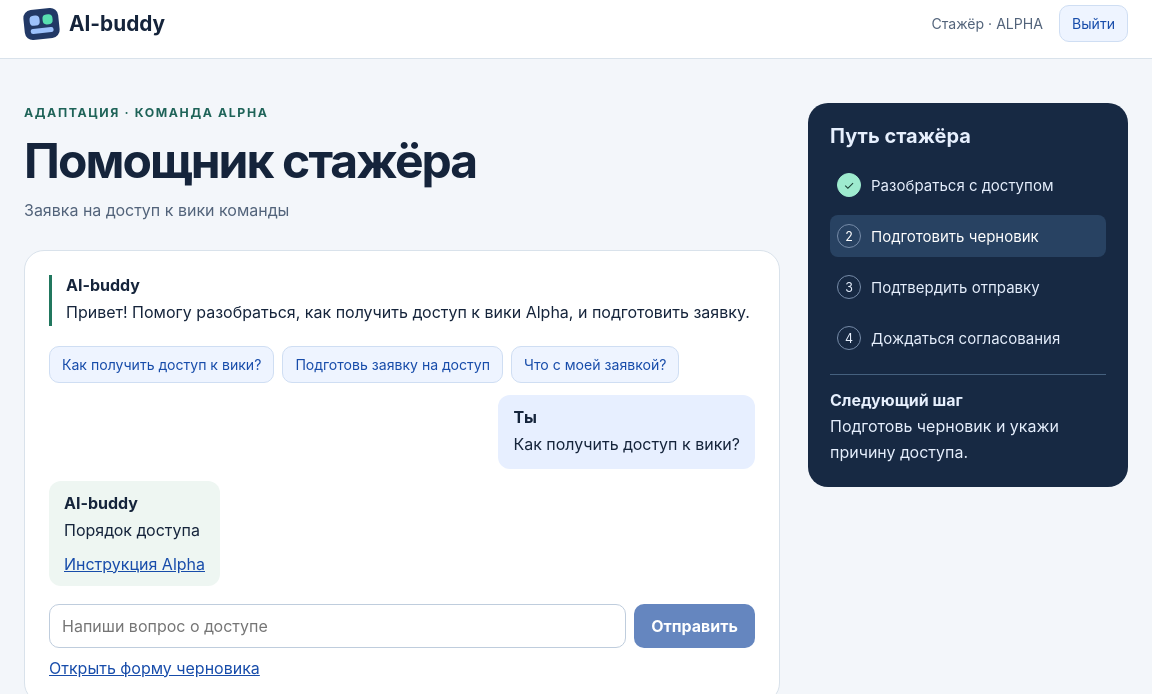
AI-buddy › signs in, reads an instruction and creates a draft
Earlier steps of the test are not shown.
Check: the text "Порядок доступа" is shown, box [64,518,205,544]
Click the button "Инструкция Alpha" at (134, 564), box [64,554,205,574]
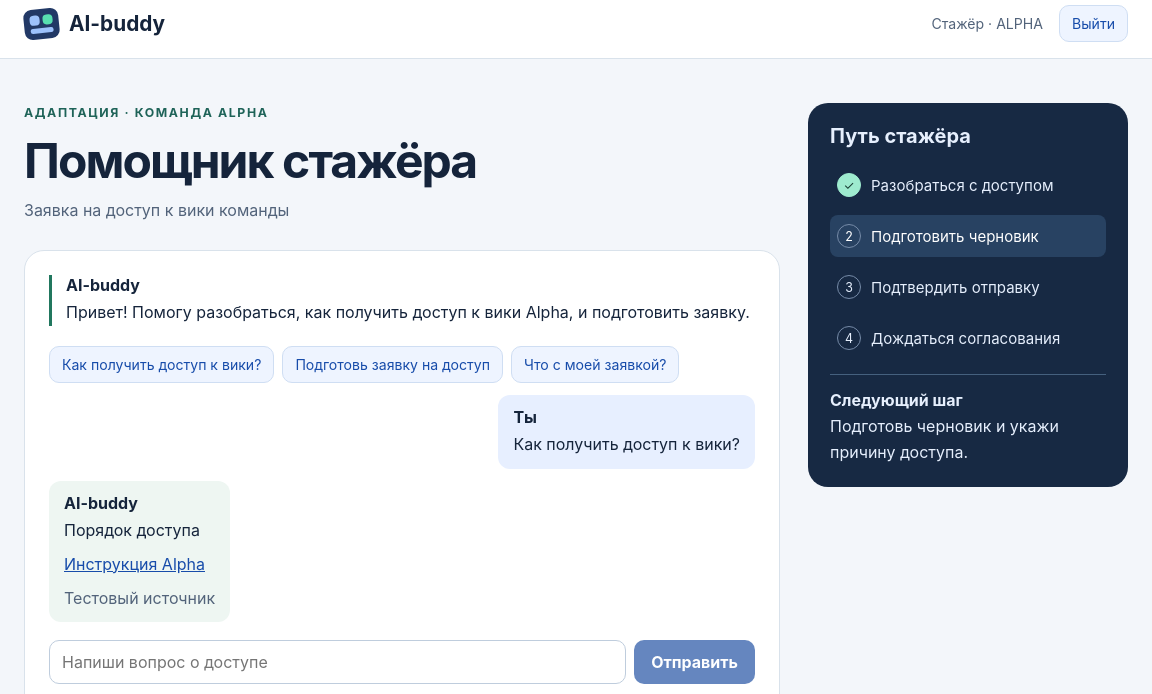
Check: the text "Тестовый источник" is shown, box [64,588,215,608]
Click the button "Инструкция Alpha" at (134, 564), box [64,554,205,574]
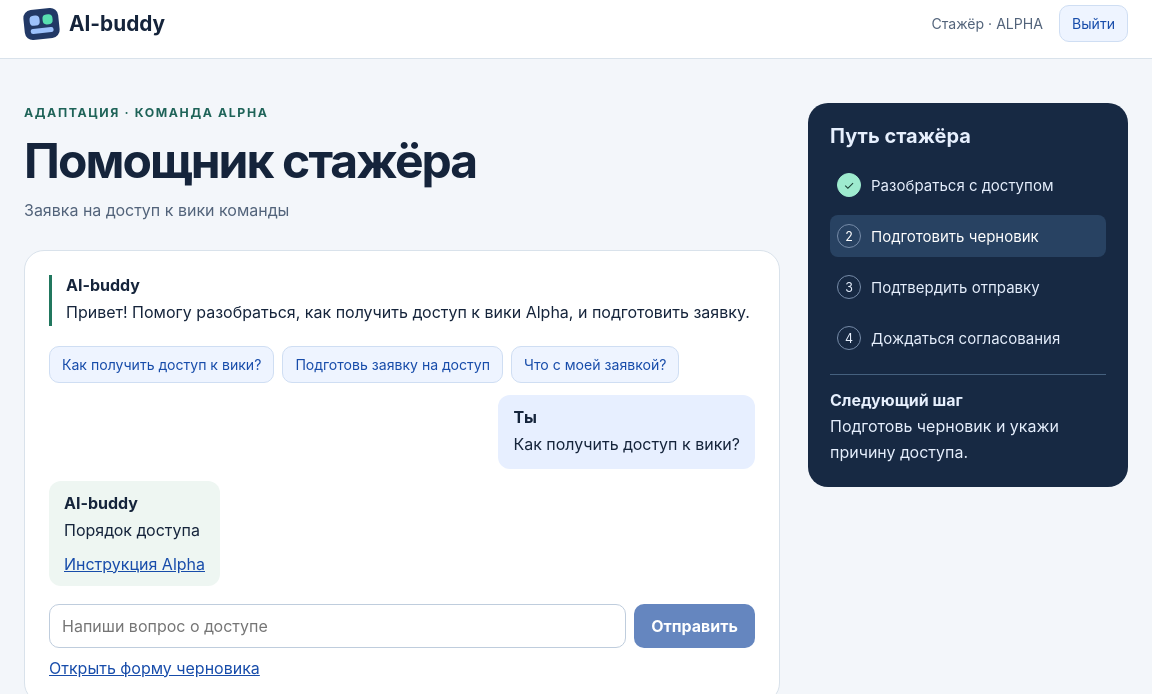
Check: the text "Тестовый источник" is gone
Type "Подготовь заявку" into the field named "Сообщение" at (338, 626), box [49,604,626,648]
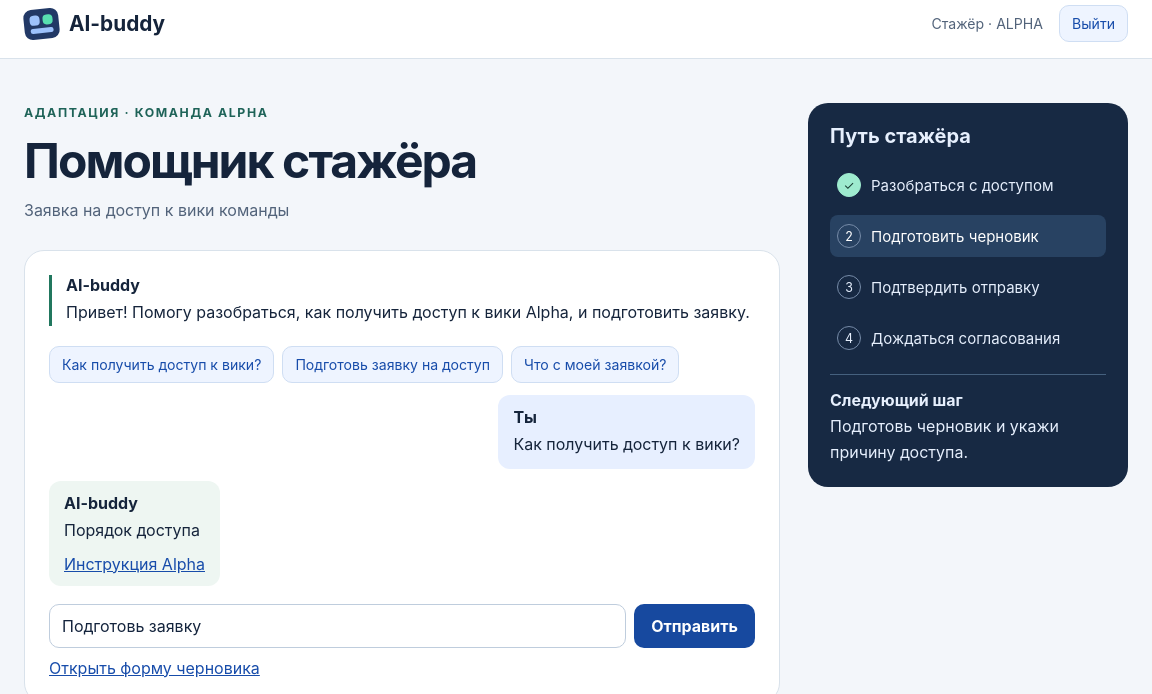
Click the button "Отправить" at (695, 626), box [634,604,755,648]
(page scrolled)
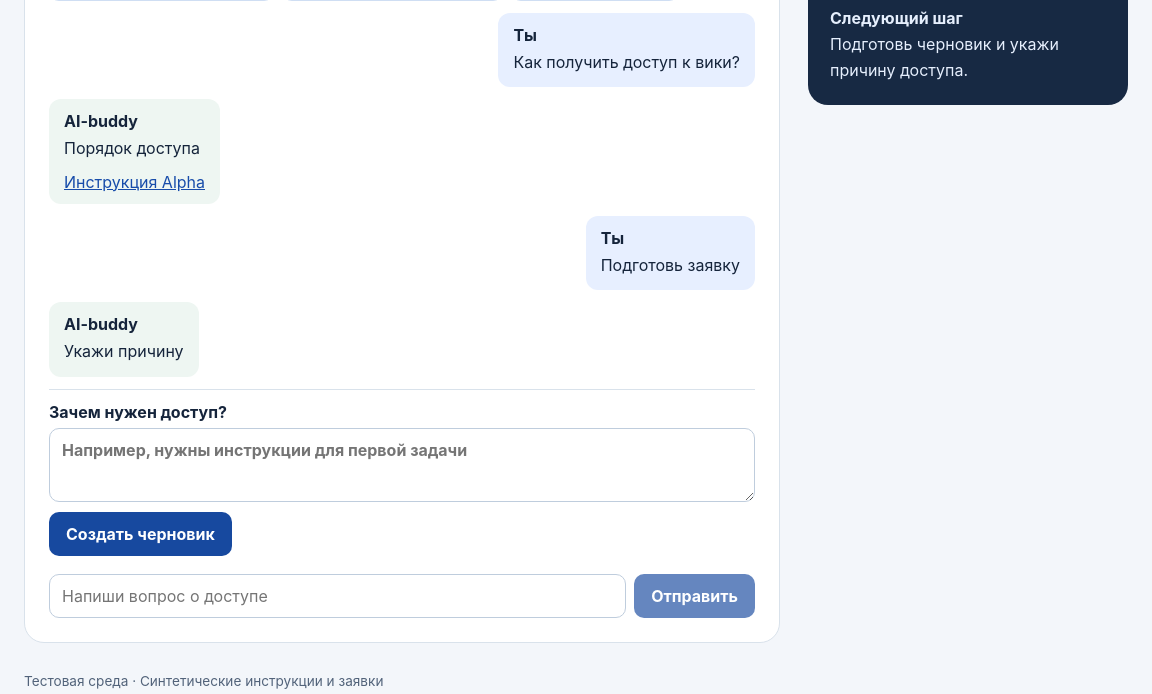
Type "Нужны инструкции" into the text box labelled "Зачем нужен доступ?" at (402, 465), box [49,428,755,502]
Click the button "Создать черновик" at (140, 534), box [49,512,232,556]
(page scrolled)
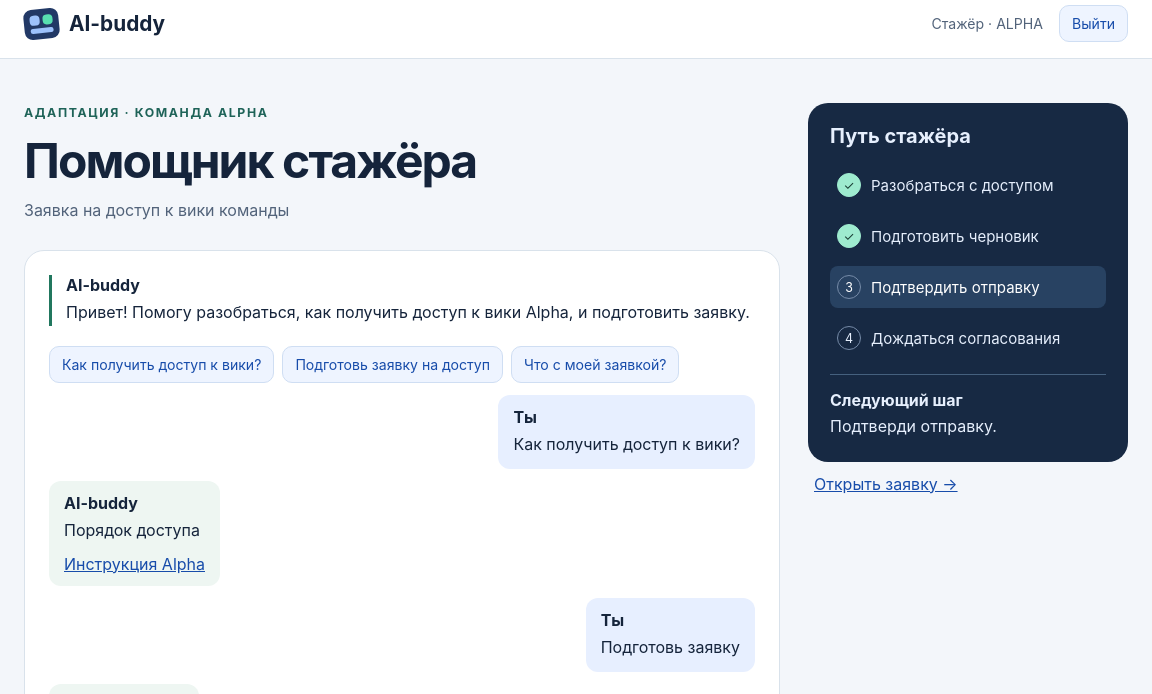
Click the button "Выйти" at (1094, 24), box [1059,5,1128,42]
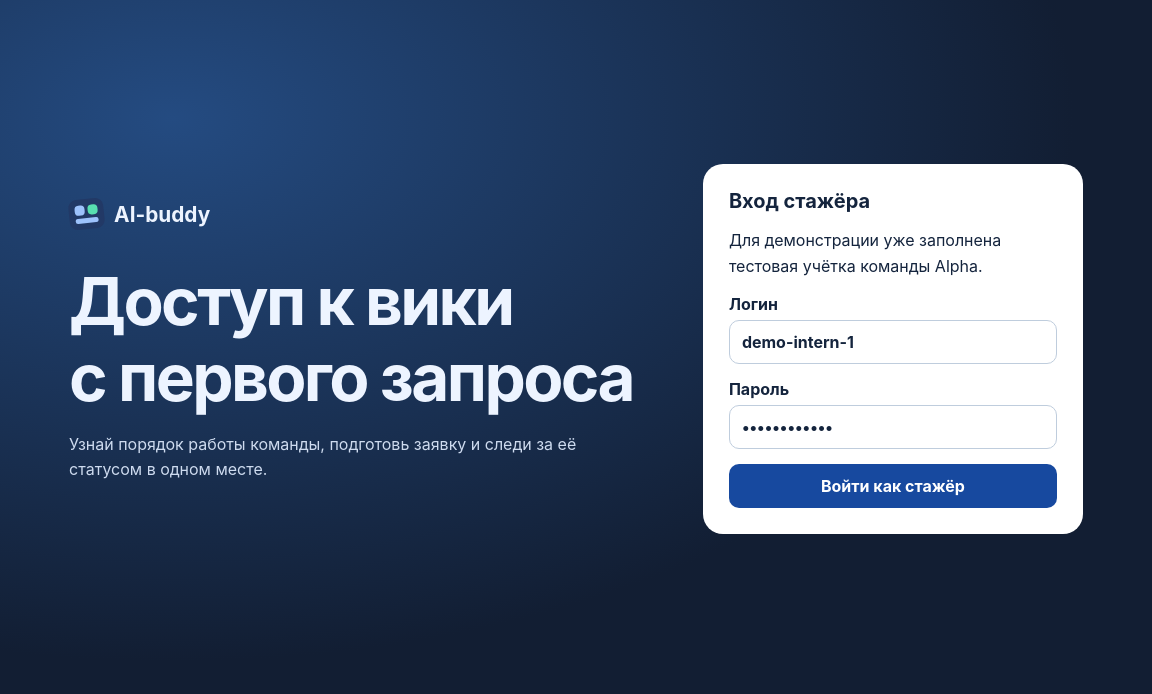
Check: the heading "Вход стажёра" is shown, box [729,189,870,213]
